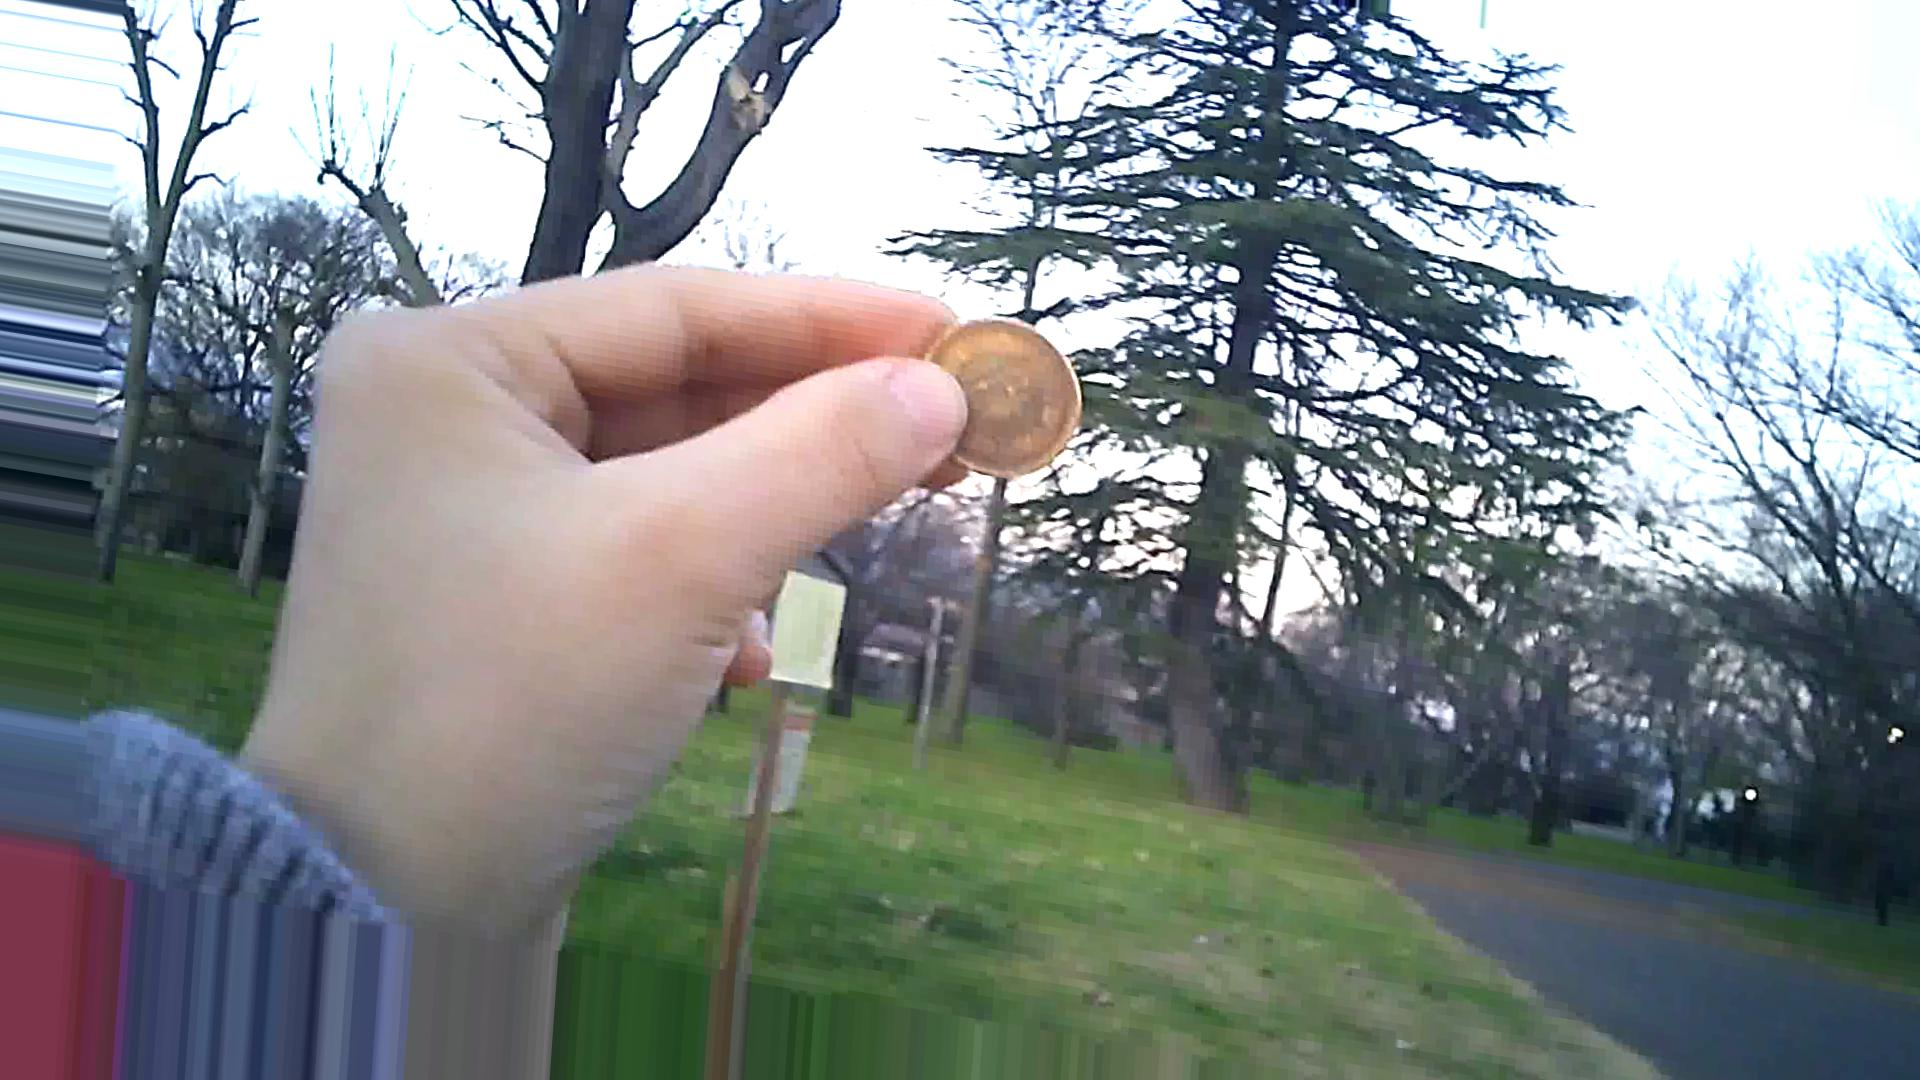10 Yen: (919, 305, 1084, 491)
